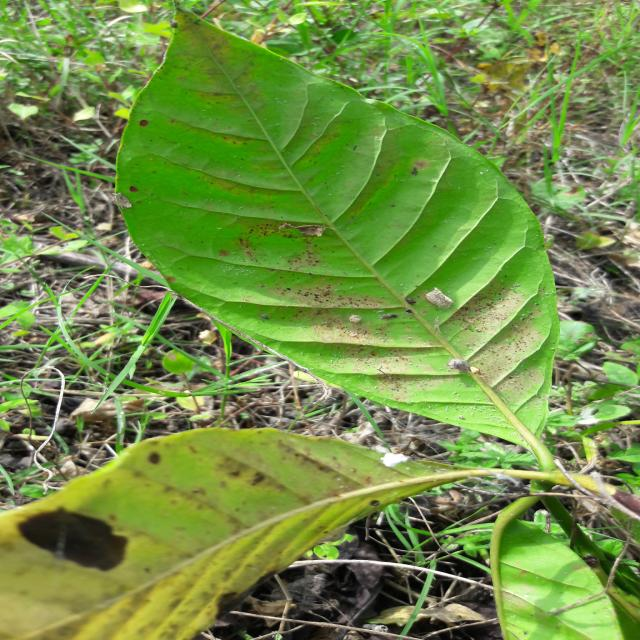Plaga-AranaRoja: (113, 10, 561, 474)
